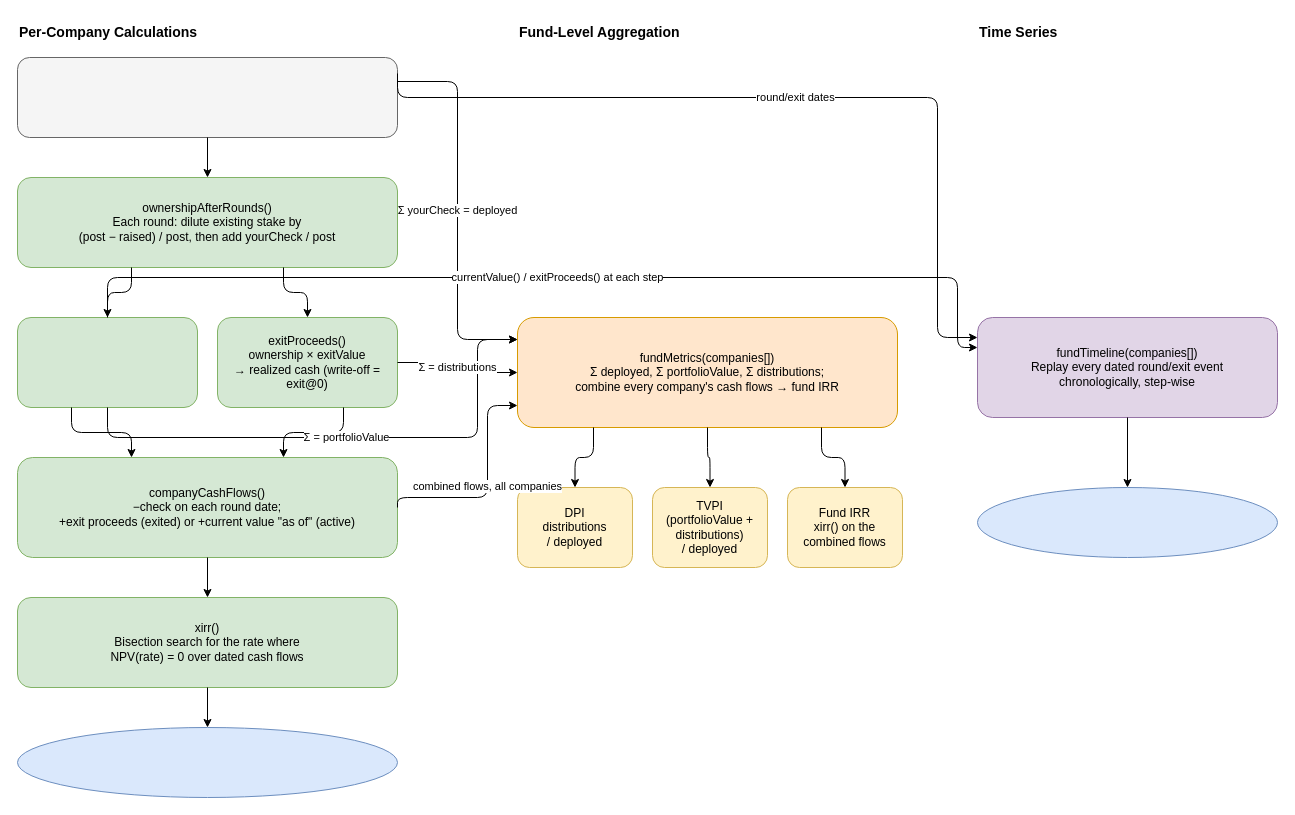
The diagram is 1295 pixels wide and 815 high, and some of its shapes have lost their labels. The box of each missing label's shape, as (x1, y1, x2, y2) in pixels:
companyIrr() Per-company IRR shown on the company detail page: (16, 726, 398, 798)
currentValue() ownership × latest postMoney → unrealized paper value: (16, 316, 198, 408)
Dashboard chart data {date, deployed, value, distributions}[]: (976, 486, 1278, 558)
RoundInput[] per company (date, raised, postMoney, yourCheck): (16, 56, 398, 138)
